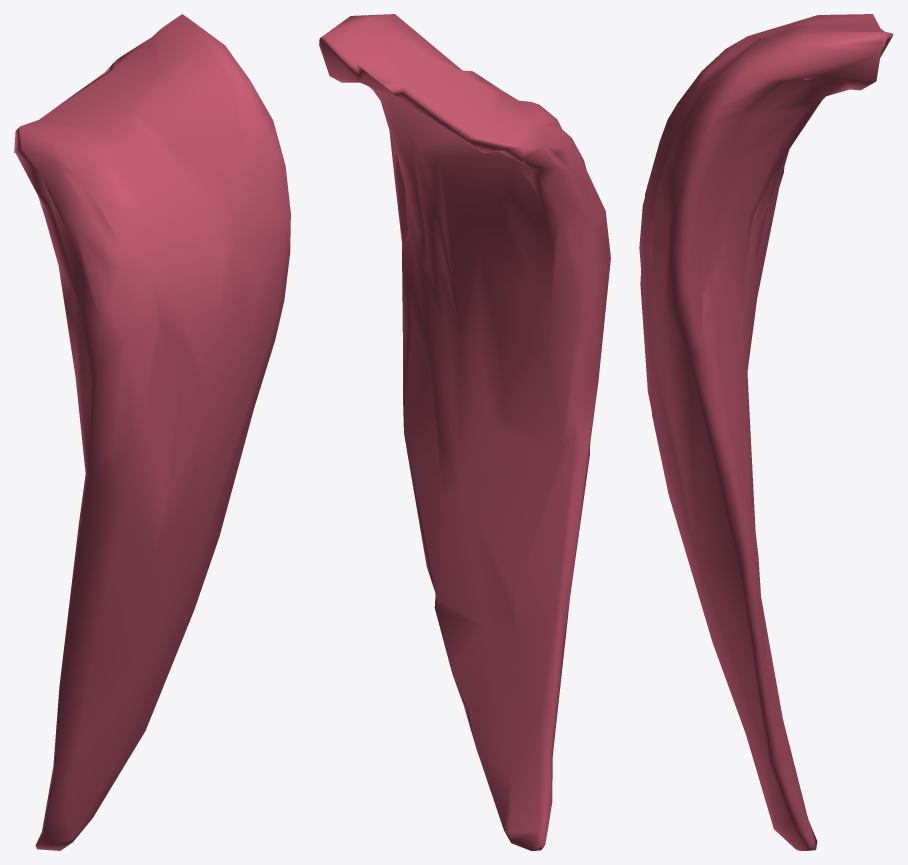
3 renders of one model, left to right at view 1: azimuth 30°, elevation 25°; view 2: azimuth 150°, elevation 25°; view 3: azimuth 270°, elevation 25°, orthographic. The views are drawn at different scales.
Parts seen in each view (by area): view 1: 左侧颏舌骨肌; view 2: 左侧颏舌骨肌; view 3: 左侧颏舌骨肌.
Boxes of the visible parts, left/top/right/bottom form: 左侧颏舌骨肌: left=14, top=14, right=290, bottom=850; 左侧颏舌骨肌: left=319, top=14, right=610, bottom=850; 左侧颏舌骨肌: left=639, top=14, right=893, bottom=850.
Bounding box in the file's own units: 0.0166 × 0.059 × 0.0149.
